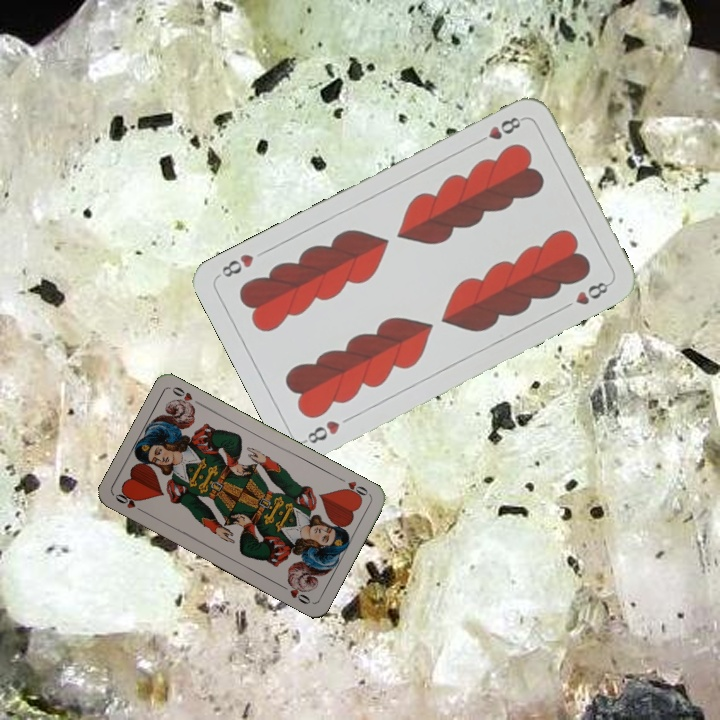H8: (472, 112, 527, 147), (300, 416, 343, 447)
HO: (334, 473, 371, 502), (111, 488, 148, 516)
